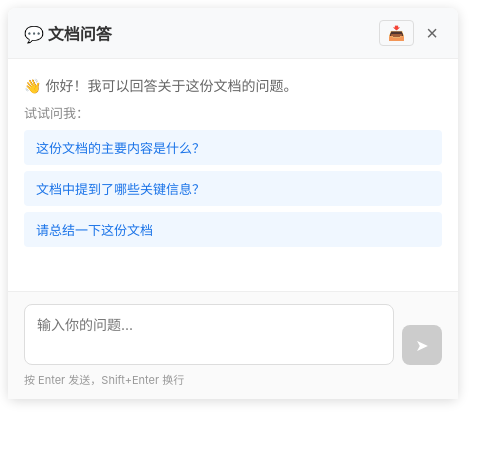
Test: DocumentQAPanel › API Calls › should display references when available
This screenshot has width=478, height=460.
Type "测试" into the text box with placeholder "输入你的问题...". click: (209, 335)
box: [24,304,394,365]
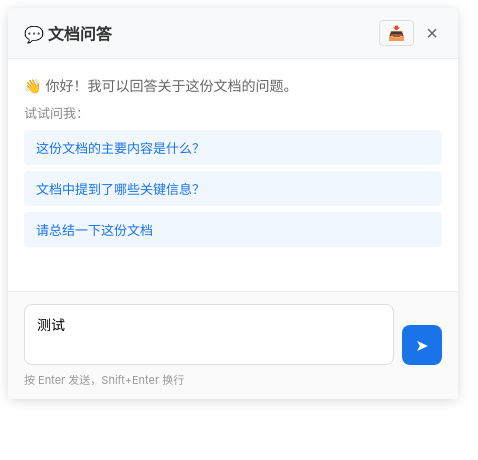
Click the button "➤". click: (422, 345)
box: [402,325,442,365]
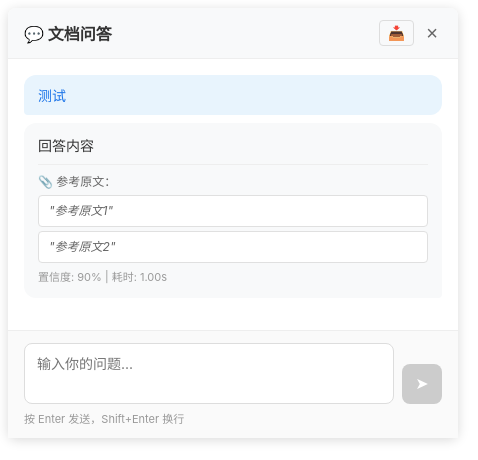
Result: the element showing "测试 回答内容 📎 参考原文： \"参考原文1\" \"参考原文2\" 置信度: 90% | 耗时: 1.00s" is shown at [8,59,458,330]
